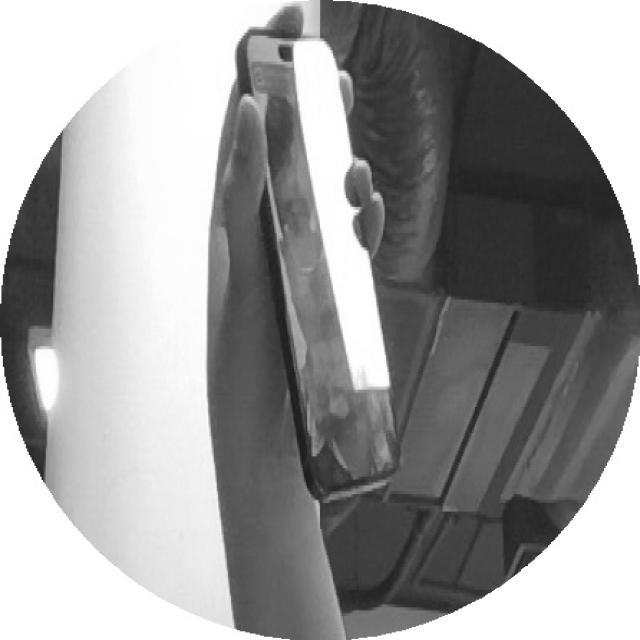fake: (208, 22, 434, 519)
